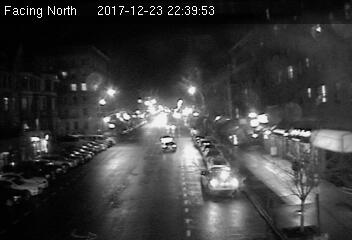car: (201, 167, 239, 196), (161, 140, 177, 154)
